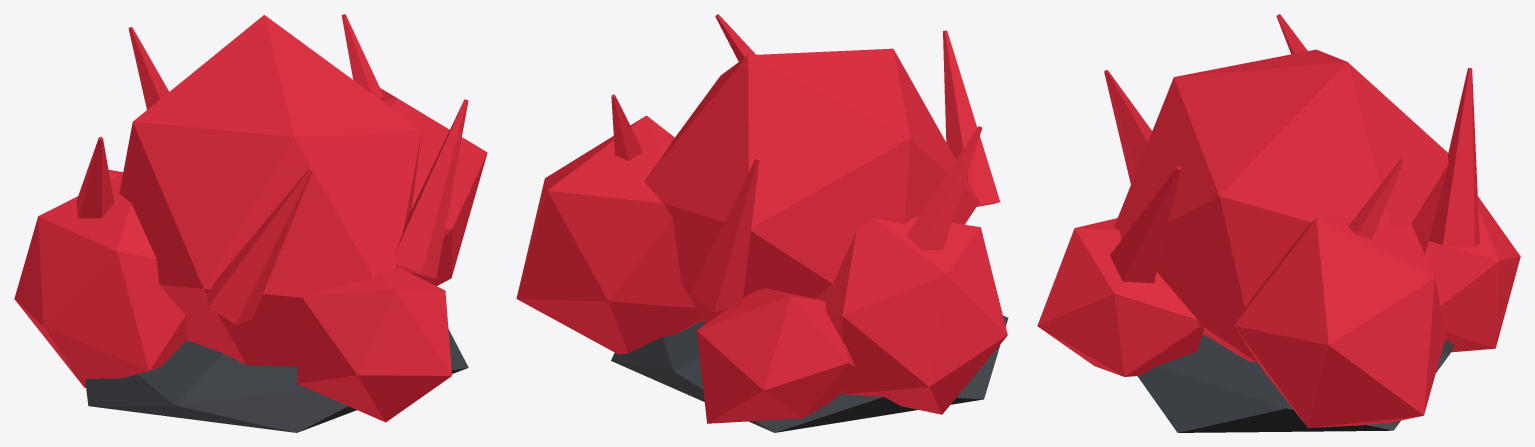
Rendered from TC_PICKUP_Biomass_V1.glb.
3 views of the same model, side by side, from view 1: azimuth 30°, elevation 25°; view 2: azimuth 150°, elevation 25°; view 3: azimuth 270°, elevation 25° (orthographic).
Parts seen in each view (by area): view 1: TC_Biomass_Blob_0, TC_Biomass_Blob_2, TC_Biomass_Blob_3, TC_Biomass_Substrate, TC_Biomass_Blob_1, TC_Biomass_Spike_3, TC_Biomass_Spike_4, TC_Biomass_Spike_2, TC_Biomass_Spike_1, TC_Biomass_Spike_0; view 2: TC_Biomass_Blob_0, TC_Biomass_Blob_1, TC_Biomass_Blob_2, TC_Biomass_Blob_4, TC_Biomass_Substrate, TC_Biomass_Spike_1, TC_Biomass_Spike_3, TC_Biomass_Spike_2, TC_Biomass_Spike_0, TC_Biomass_Spike_4; view 3: TC_Biomass_Blob_0, TC_Biomass_Blob_1, TC_Biomass_Blob_3, TC_Biomass_Substrate, TC_Biomass_Blob_4, TC_Biomass_Spike_1, TC_Biomass_Spike_4, TC_Biomass_Spike_3, TC_Biomass_Spike_0, TC_Biomass_Spike_2.
Boxes of the visible parts, left/top/right/bottom form: TC_Biomass_Blob_0: left=119, top=15, right=421, bottom=366; TC_Biomass_Blob_2: left=14, top=173, right=186, bottom=387; TC_Biomass_Blob_3: left=297, top=267, right=451, bottom=422; TC_Biomass_Substrate: left=85, top=329, right=468, bottom=432; TC_Biomass_Blob_1: left=379, top=88, right=487, bottom=285; TC_Biomass_Spike_3: left=207, top=168, right=312, bottom=324; TC_Biomass_Spike_4: left=395, top=99, right=468, bottom=278; TC_Biomass_Spike_2: left=76, top=136, right=114, bottom=218; TC_Biomass_Spike_1: left=128, top=27, right=168, bottom=109; TC_Biomass_Spike_0: left=341, top=14, right=383, bottom=98; TC_Biomass_Blob_0: left=644, top=48, right=979, bottom=324; TC_Biomass_Blob_1: left=516, top=115, right=702, bottom=354; TC_Biomass_Blob_2: left=815, top=217, right=1007, bottom=414; TC_Biomass_Blob_4: left=696, top=288, right=855, bottom=423; TC_Biomass_Substrate: left=611, top=315, right=1008, bottom=432; TC_Biomass_Spike_1: left=691, top=157, right=759, bottom=311; TC_Biomass_Spike_3: left=943, top=30, right=1000, bottom=206; TC_Biomass_Spike_2: left=906, top=126, right=982, bottom=250; TC_Biomass_Spike_0: left=611, top=94, right=642, bottom=160; TC_Biomass_Spike_4: left=715, top=14, right=755, bottom=61; TC_Biomass_Blob_0: left=1114, top=49, right=1448, bottom=362; TC_Biomass_Blob_1: left=1234, top=216, right=1446, bottom=427; TC_Biomass_Blob_3: left=1037, top=218, right=1204, bottom=376; TC_Biomass_Substrate: left=1137, top=334, right=1454, bottom=432; TC_Biomass_Blob_4: left=1425, top=196, right=1520, bottom=352; TC_Biomass_Spike_1: left=1429, top=68, right=1479, bottom=247; TC_Biomass_Spike_4: left=1110, top=166, right=1180, bottom=282; TC_Biomass_Spike_3: left=1104, top=70, right=1152, bottom=183; TC_Biomass_Spike_0: left=1348, top=158, right=1404, bottom=239; TC_Biomass_Spike_2: left=1276, top=14, right=1307, bottom=54.
Bounding box in the file's own units: 0.4679 × 0.3332 × 0.437.
